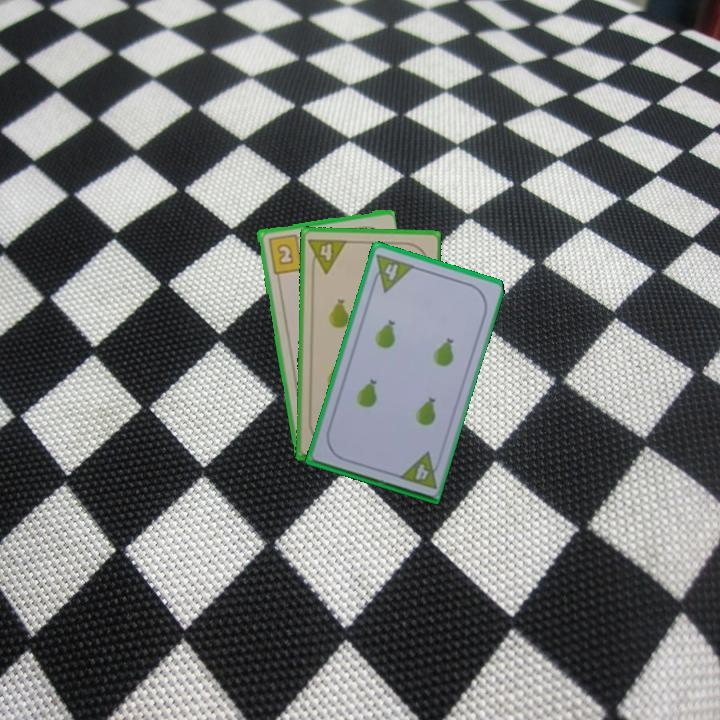2b: (264, 230, 306, 276)
4p: (367, 251, 417, 295), (395, 449, 444, 491), (305, 235, 349, 276)
